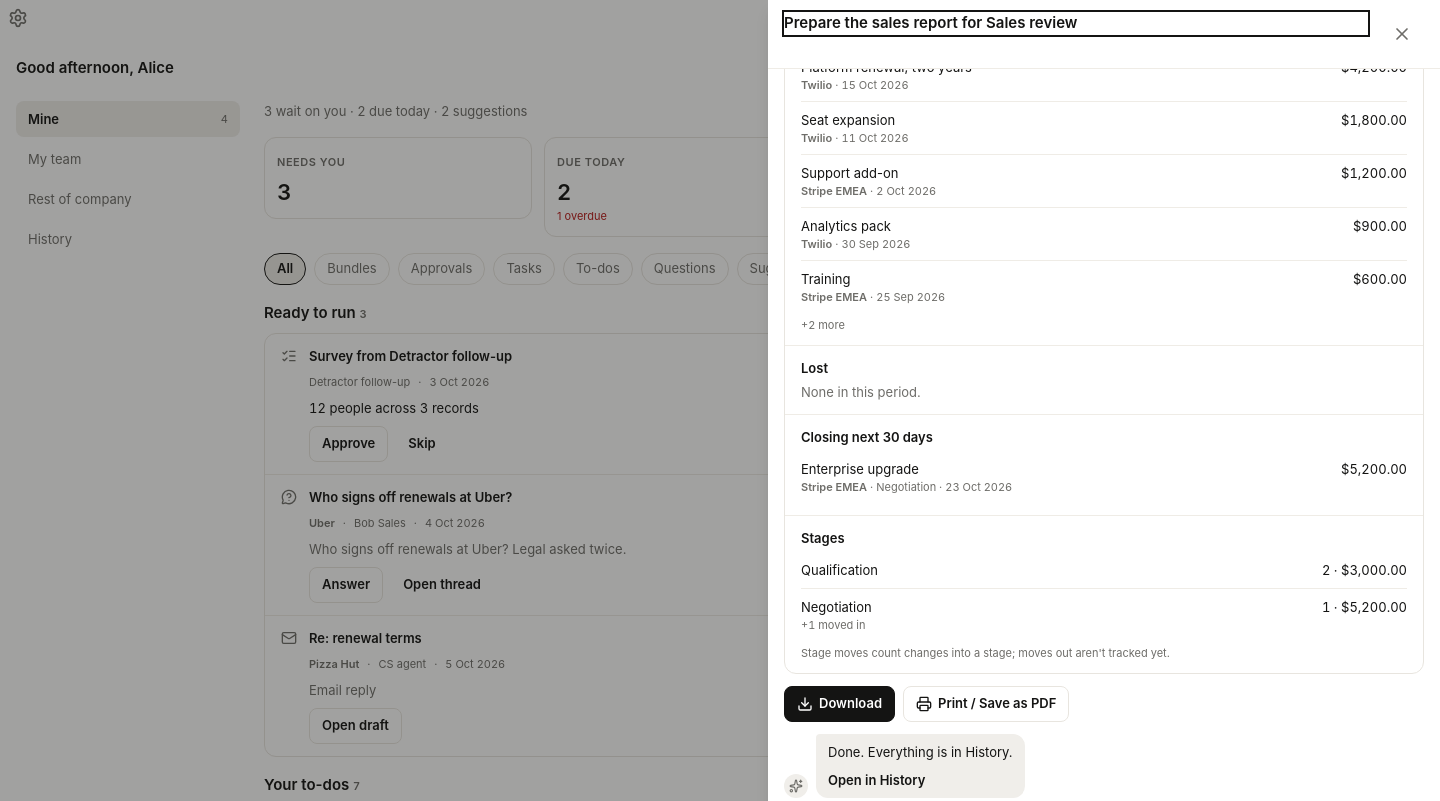
Scenario: sales report in the guided conversation (2026-10-18) › says so when the report cannot be fetched
(page scrolled)
Click the button "Download" at (840, 704), box [784,686,895,722]
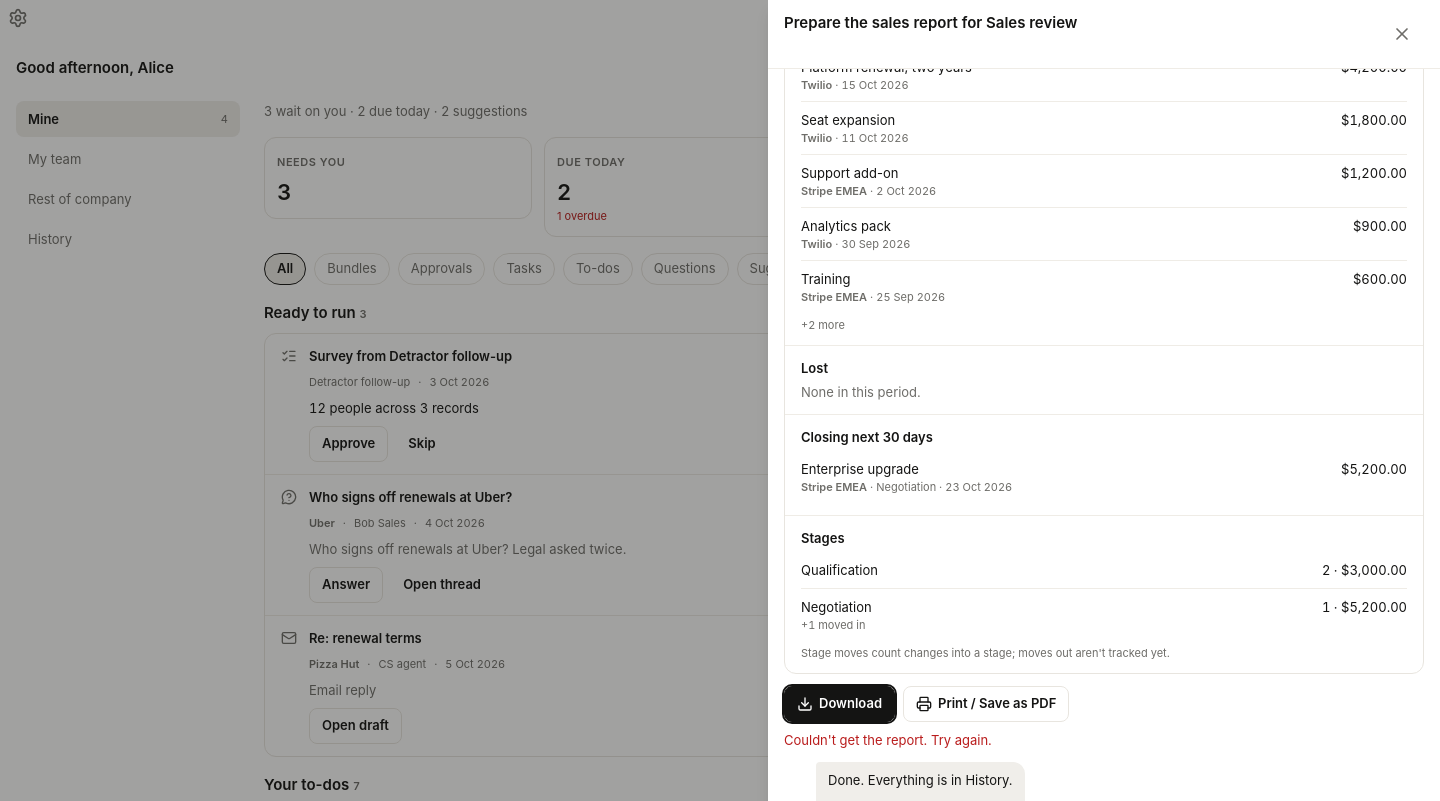
expect the message reads "Couldn't get the report. Try again.": met, box [784,732,992,748]
